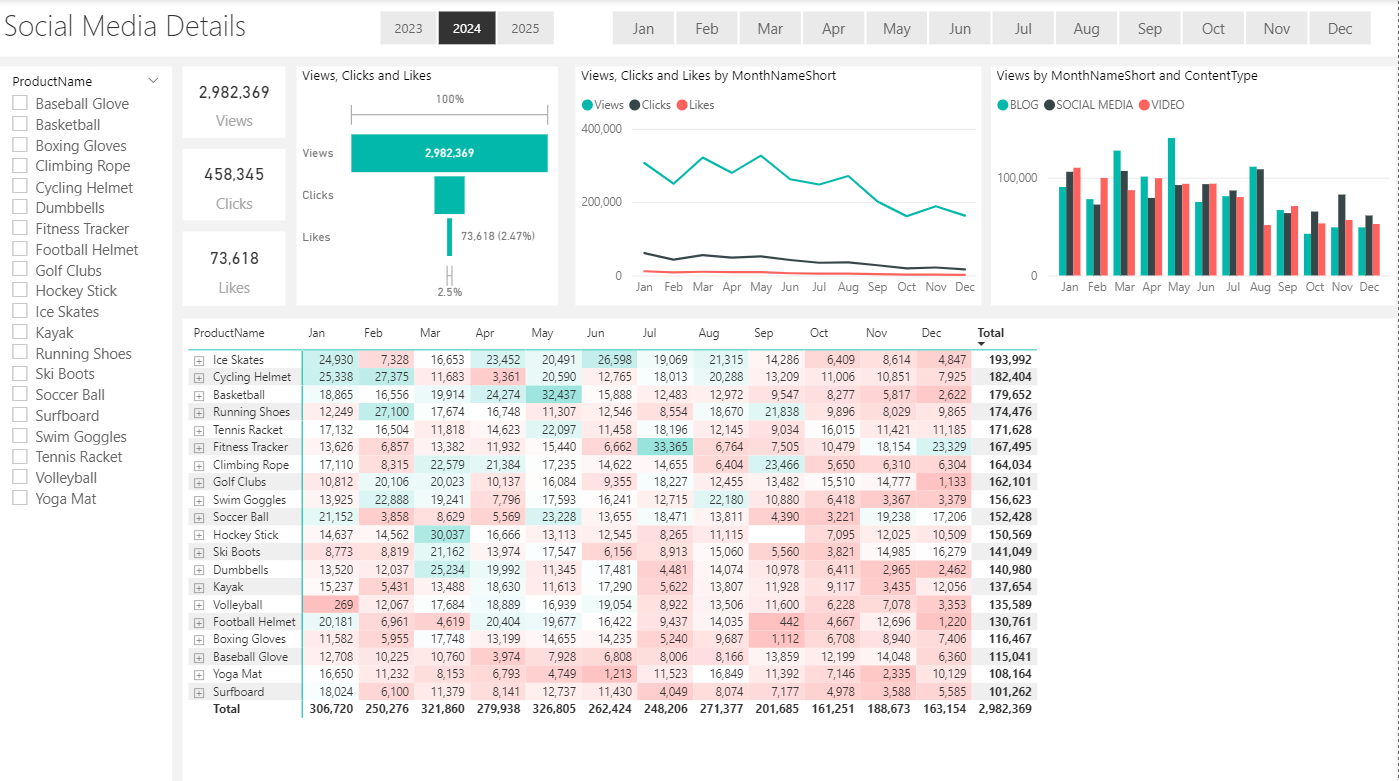

This screenshot's page, from the dashboard's own definition file:
{"tool":"powerbi","page":{"name":"Social Media Details","canvas":[1280,720],"ordinal":2},"visuals":[{"type":"textbox","box":[0,0,1280,52.6],"z":0},{"type":"slicer","fields":{"Values":["dim_products.ProductName"]},"box":[0,61.6,159.5,658.5],"z":1000},{"type":"lineChart","fields":{"Y":["_Calculations.Views","_Calculations.Clicks","_Calculations.Likes"],"Category":["Calendar.MonthNameShort"]},"box":[528.5,61.9,371.6,218.8],"z":2000},{"type":"funnel","fields":{"Y":["_Calculations.Views","_Calculations.Clicks","_Calculations.Likes"]},"box":[272.5,61.9,239.5,218.8],"z":3000},{"type":"card","fields":{"Values":["_Calculations.Views"]},"box":[168.3,61.9,93.9,65],"z":4000},{"type":"card","fields":{"Values":["_Calculations.Clicks"]},"box":[168.3,137.3,93.9,65],"z":5000},{"type":"card","fields":{"Values":["_Calculations.Likes"]},"box":[168.3,212.6,93.9,68.1],"z":6000},{"type":"slicer","fields":{"Values":["Calendar.MonthNameShort"]},"box":[536.8,4.1,743.2,44.4],"z":7000},{"type":"slicer","fields":{"Values":["Calendar.Year"]},"box":[324.1,4.1,208.5,44.4],"z":8000},{"type":"pivotTable","fields":{"Rows":["dim_products.ProductName","fact_engagement.ContentType"],"Values":["_Calculations.Views"],"Columns":["Calendar.MonthNameShort"]},"box":[168.3,292.1,1110.7,428.4],"z":9000},{"type":"clusteredColumnChart","fields":{"Category":["Calendar.MonthNameShort"],"Series":["fact_engagement.ContentType"],"Y":["_Calculations.Views"]},"box":[908.4,61.9,370.6,218.8],"z":10000}]}

Visuals, with their boxes in screenshot pixels (x1, y1, x2, y2), scaled from the page's 1280x720 canvas onto the 1399x781 screenshot:
textbox: crop(0, 0, 1398, 57)
slicer - dim_products.ProductName: crop(0, 67, 174, 780)
lineChart - _Calculations.Views x _Calculations.Clicks: crop(578, 67, 984, 304)
funnel - _Calculations.Views x _Calculations.Clicks: crop(298, 67, 560, 304)
card - _Calculations.Views: crop(184, 67, 287, 138)
card - _Calculations.Clicks: crop(184, 149, 287, 219)
card - _Calculations.Likes: crop(184, 231, 287, 304)
slicer - Calendar.MonthNameShort: crop(587, 4, 1398, 53)
slicer - Calendar.Year: crop(354, 4, 582, 53)
pivotTable - dim_products.ProductName x fact_engagement.ContentType: crop(184, 317, 1398, 780)
clusteredColumnChart - Calendar.MonthNameShort x fact_engagement.ContentType: crop(993, 67, 1398, 304)
